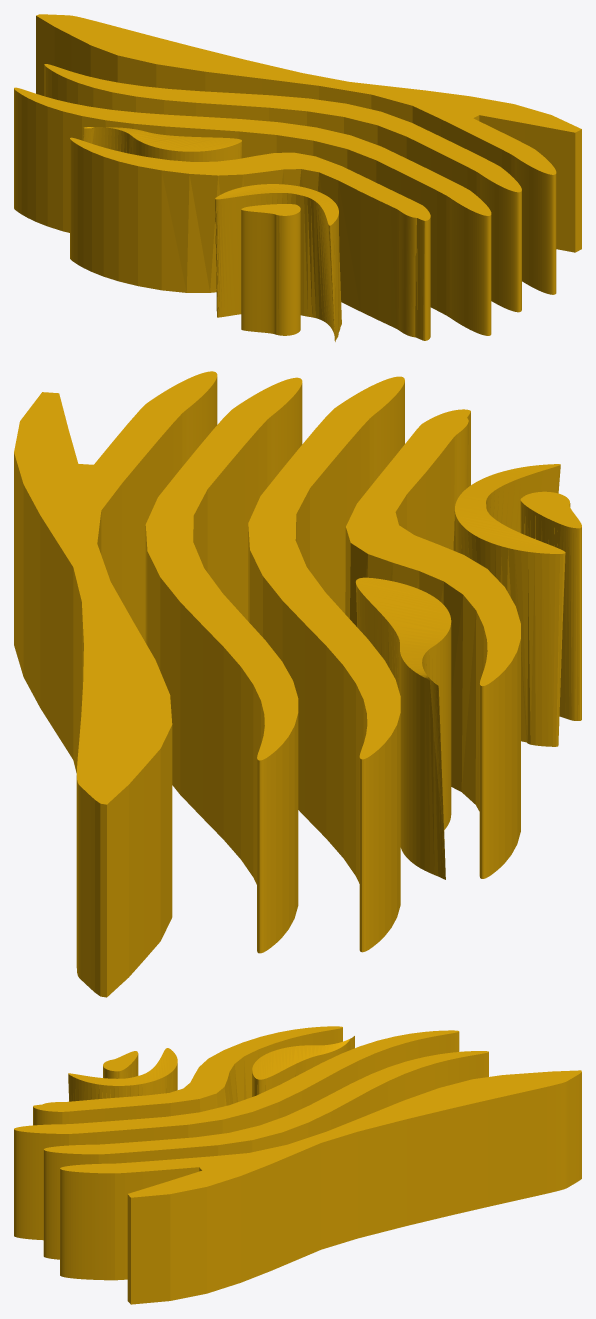
File: golgi.dae
The picture shows the model from 3 angles, top to bottom: view 1: azimuth 30°, elevation 25°; view 2: azimuth 150°, elevation 25°; view 3: azimuth 270°, elevation 25°; orthographic projection. The views are drawn at different scales.
Visible parts, largest first — view 1: Cylinder_001; view 2: Cylinder_001; view 3: Cylinder_001.
Part boxes in pixels (x1=…): Cylinder_001: x1=14, y1=14, x2=581, y2=341; Cylinder_001: x1=14, y1=371, x2=581, y2=997; Cylinder_001: x1=14, y1=1026, x2=581, y2=1304.
Bounding box in the file's own units: 2.47 × 3.46 × 0.7351.
